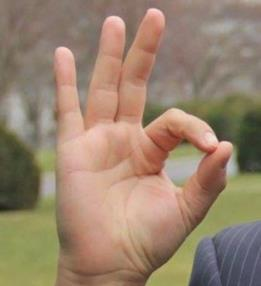left: (46, 6, 238, 261)
